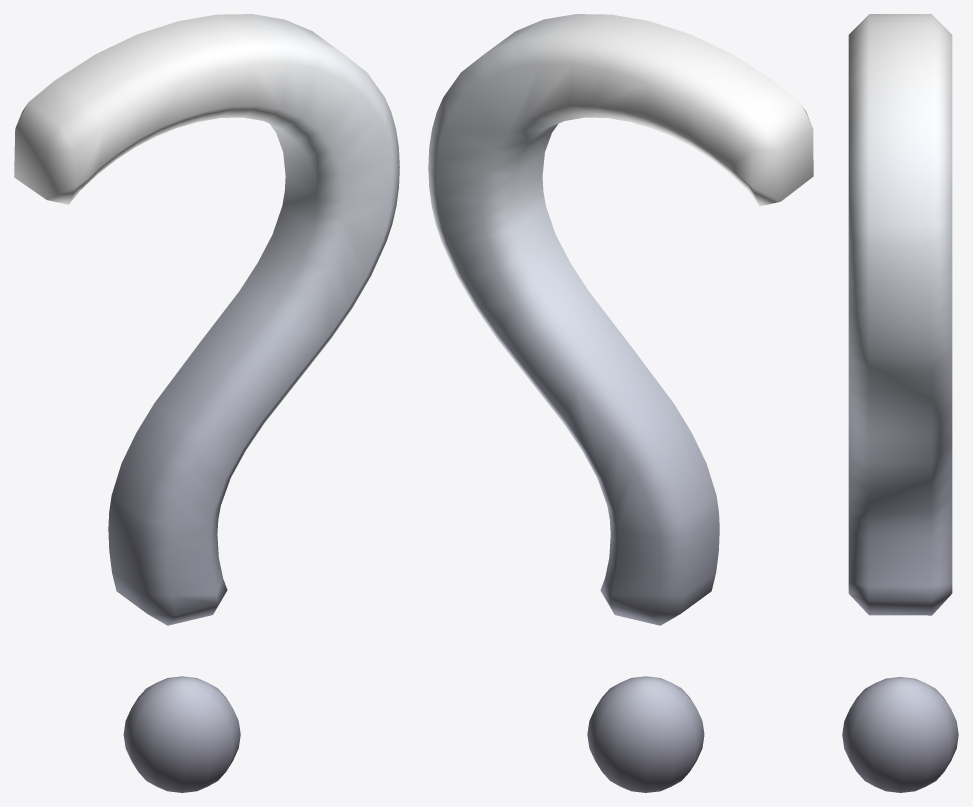
File: QuestionMark.fbx
3 views of the same model, side by side, from view 1: azimuth 30°, elevation 25°; view 2: azimuth 150°, elevation 25°; view 3: azimuth 270°, elevation 25° (orthographic).
Parts seen in each view (by area): view 1: QuestionMark; view 2: QuestionMark; view 3: QuestionMark.
Boxes of the visible parts, x1=… form: QuestionMark: x1=14, y1=14, x2=399, y2=792; QuestionMark: x1=428, y1=14, x2=813, y2=792; QuestionMark: x1=842, y1=14, x2=958, y2=792.
Size of the model in its own units: 156 by 317 by 44.67.
Materials: 1 (1 with a texture image).
